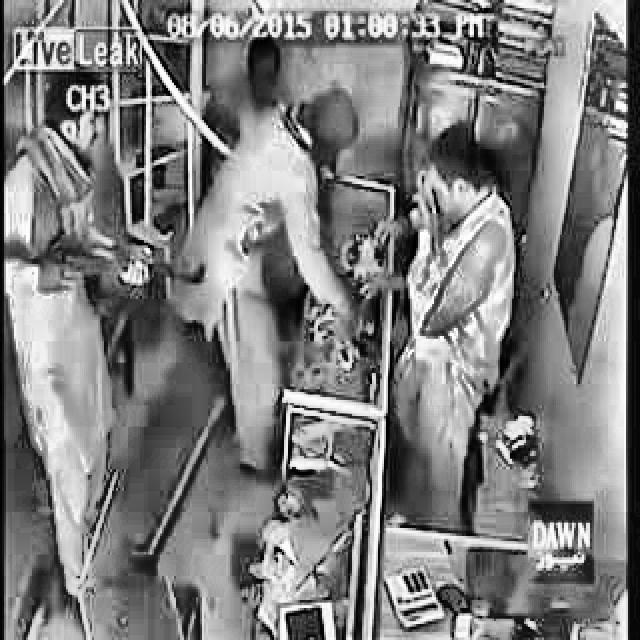robbery: (3, 72, 208, 599), (210, 84, 405, 474), (403, 123, 519, 346)
